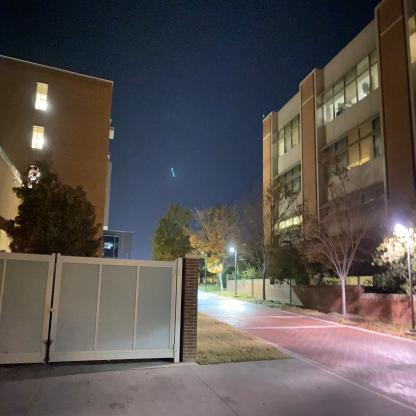eb2: (263, 16, 415, 284)
